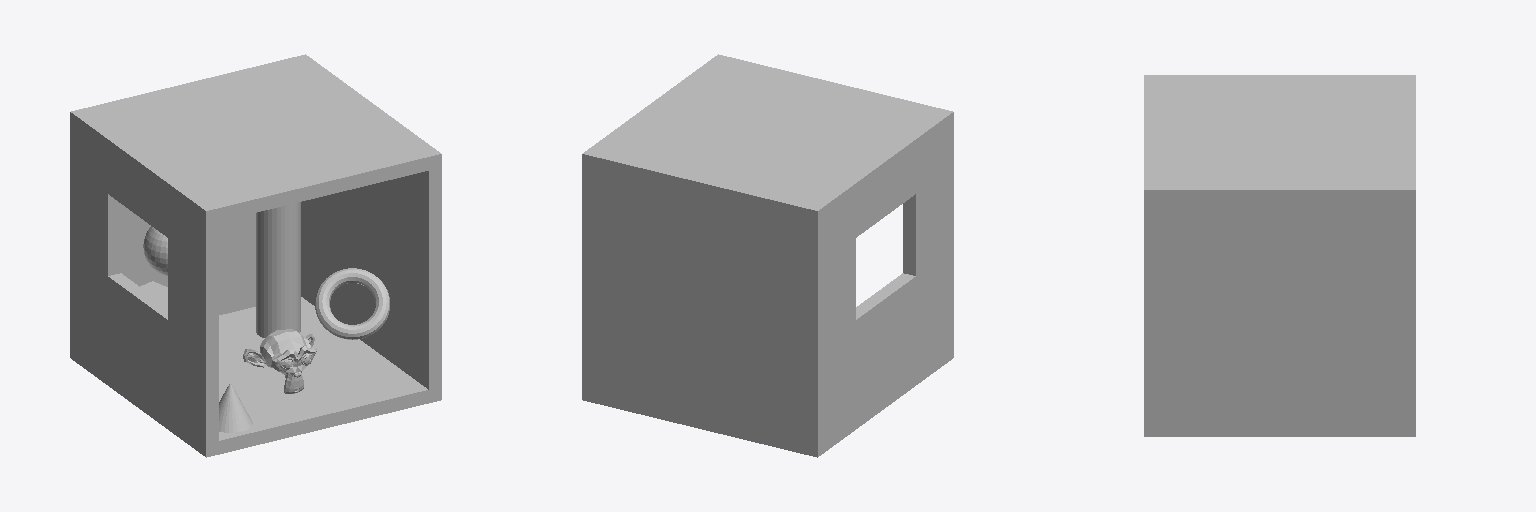
3 renders of one model, left to right at view 1: azimuth 30°, elevation 25°; view 2: azimuth 150°, elevation 25°; view 3: azimuth 270°, elevation 25°, orthographic.
Visible parts, largest first — view 1: 立方体.004; view 2: 立方体.004; view 3: 立方体.004.
Boxes of the visible parts, x1=… form: 立方体.004: x1=70, y1=54, x2=441, y2=457; 立方体.004: x1=582, y1=54, x2=953, y2=457; 立方体.004: x1=1144, y1=75, x2=1415, y2=436.
Bounding box in the file's own units: 18 × 18 × 18.